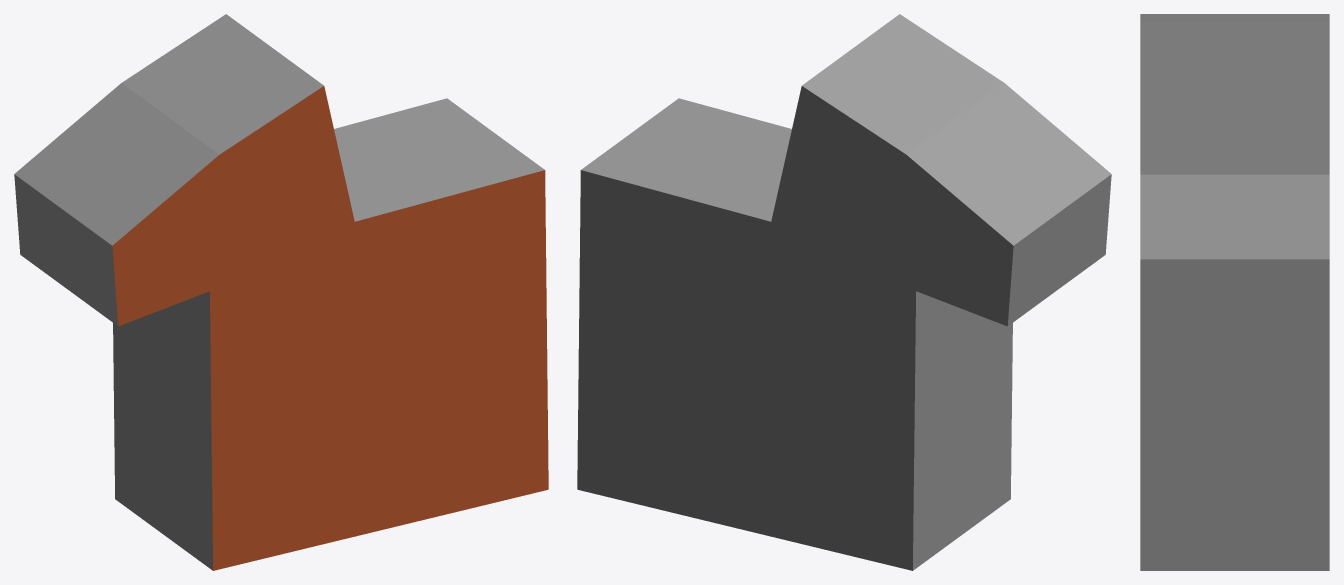
File: construction_2376_assumed_A_Casa_h6m.obj
The picture shows the model from 3 angles, left to right: view 1: azimuth 30°, elevation 25°; view 2: azimuth 150°, elevation 25°; view 3: azimuth 270°, elevation 25°; orthographic projection. The views are drawn at different scales.
Parts seen in each view (by area): view 1: construction_2376_assumed_A_Casa; view 2: construction_2376_assumed_A_Casa; view 3: construction_2376_assumed_A_Casa.
Part boxes in pixels (<box>): construction_2376_assumed_A_Casa: <box>14,14,548,570</box>; construction_2376_assumed_A_Casa: <box>577,14,1111,570</box>; construction_2376_assumed_A_Casa: <box>1140,14,1329,570</box>.
Size of the model in its own units: 15.42 by 15.48 by 6.
